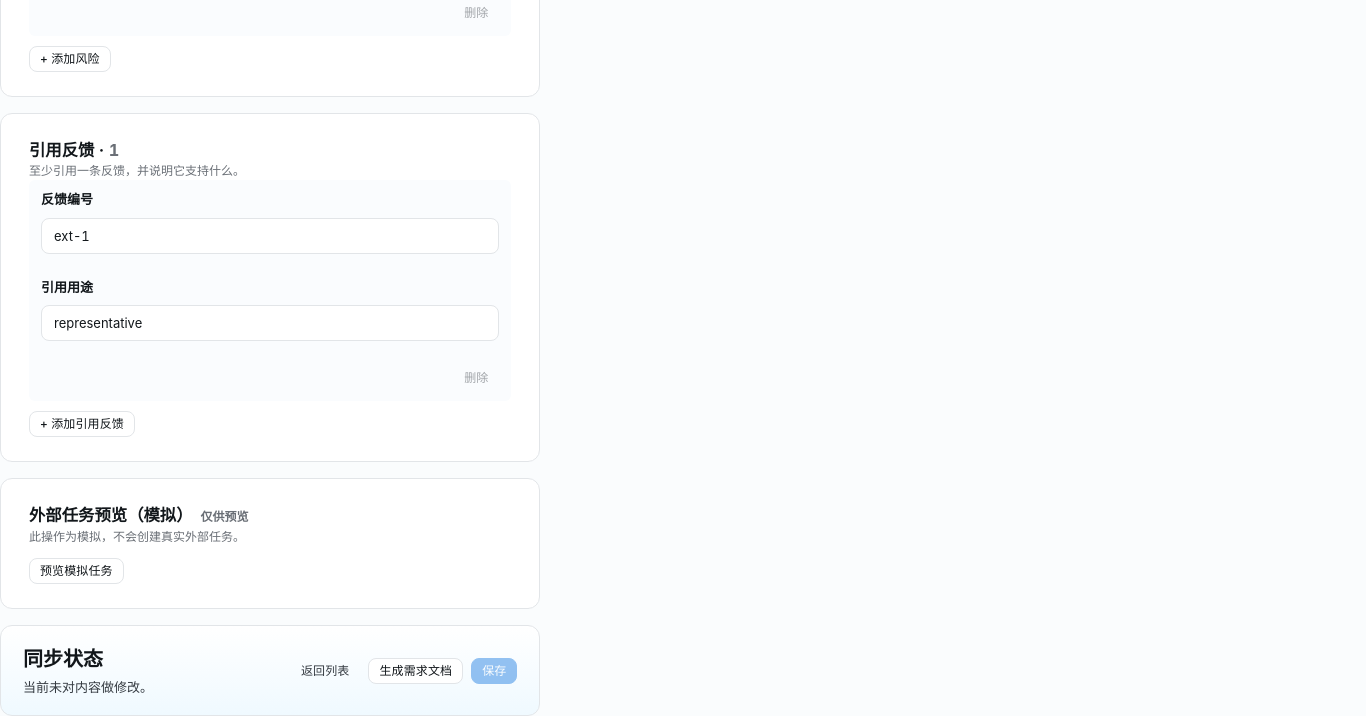
Scenario: RequirementDetailPage — Phase 7 B2 › Prepare → preview + Cancel + Approve (happy path)
(page scrolled)
Expected: the element with test id "tool-action-preview" is shown, [0, 478, 540, 609]
Click the button with test id "tool-prepare" at (76, 571), box [29, 558, 124, 584]
(page scrolled)
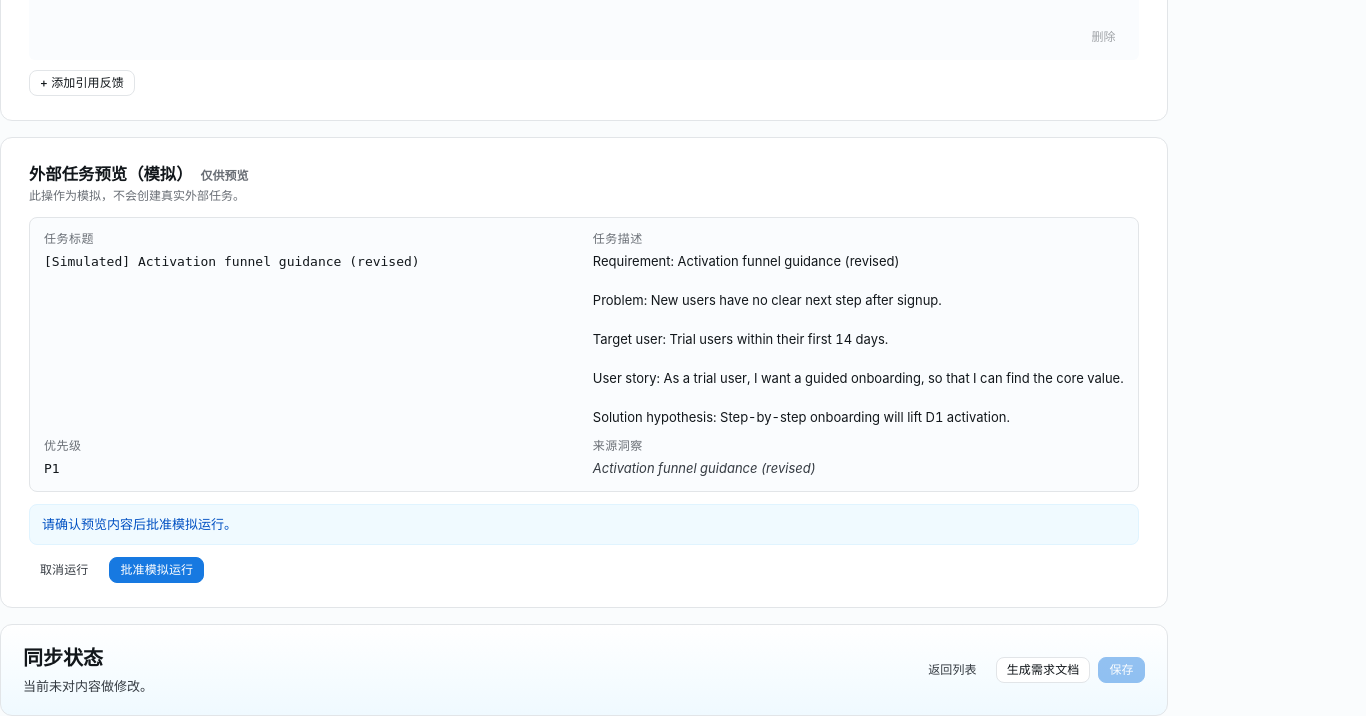
Expected: the element with test id "tool-action-awaiting-approval" is shown, [29, 217, 1139, 583]
Expected: the text "[Simulated] Activation funnel guidance (revised)" is shown, [44, 254, 420, 269]
Expected: the text with test id "tool-preview-description" is shown, [593, 252, 1124, 427]
